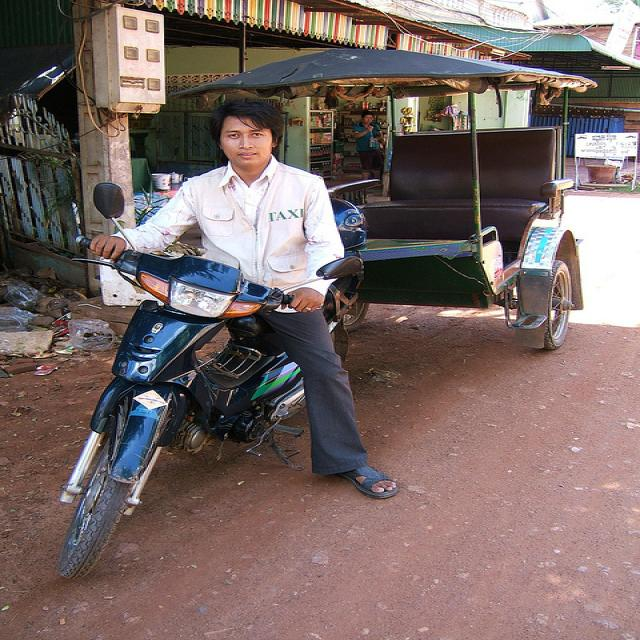motor: (47, 177, 364, 594)
